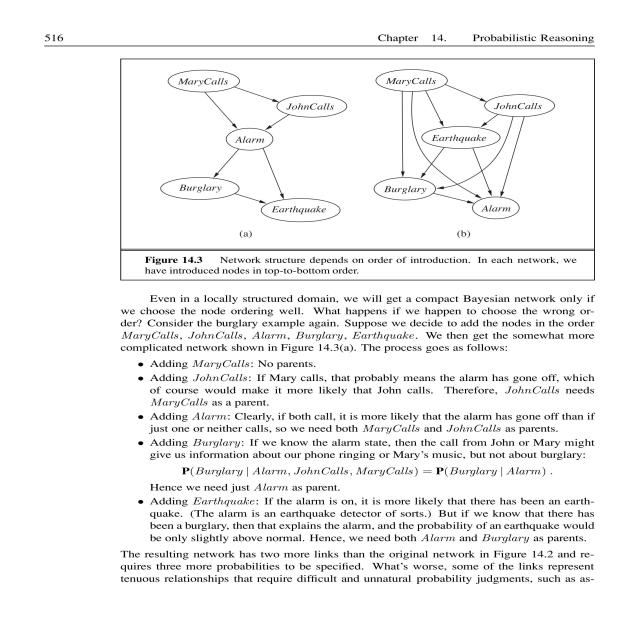diagram: (96, 57, 640, 280)
